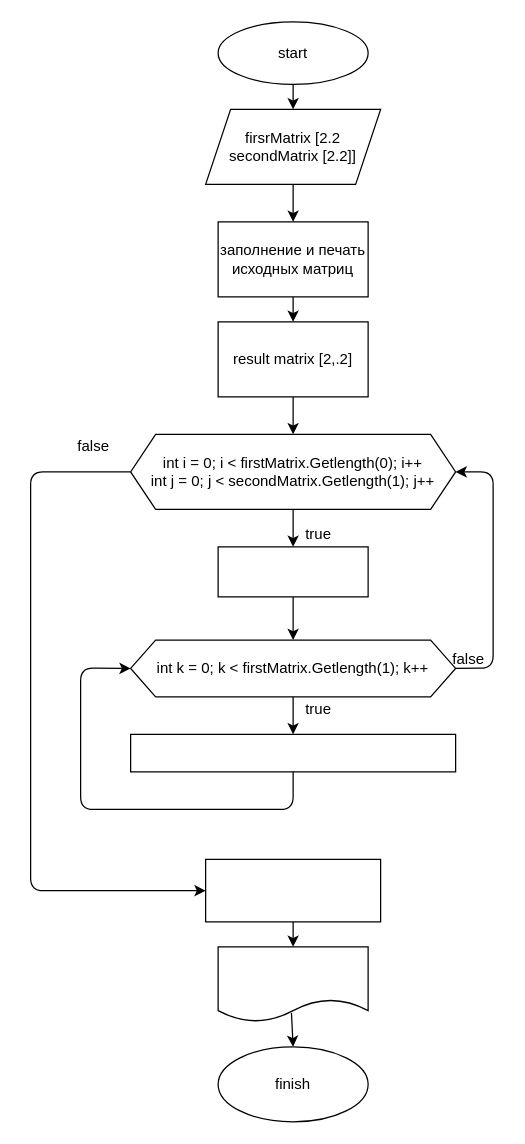
The diagram is 525 pixels wide and 1144 high, and some of its shapes have lost their labels. Here are the shapes that lost their labels. From the top down, the centre of each, then its label:
the point at 292,571: sum = 0
the point at 292,752: sum += firstMatrix [i, k] * secondMatrix [k, j]
the point at 292,890: resultMatrix [i, j] = sum
the point at 292,984: Print resultMatrix
